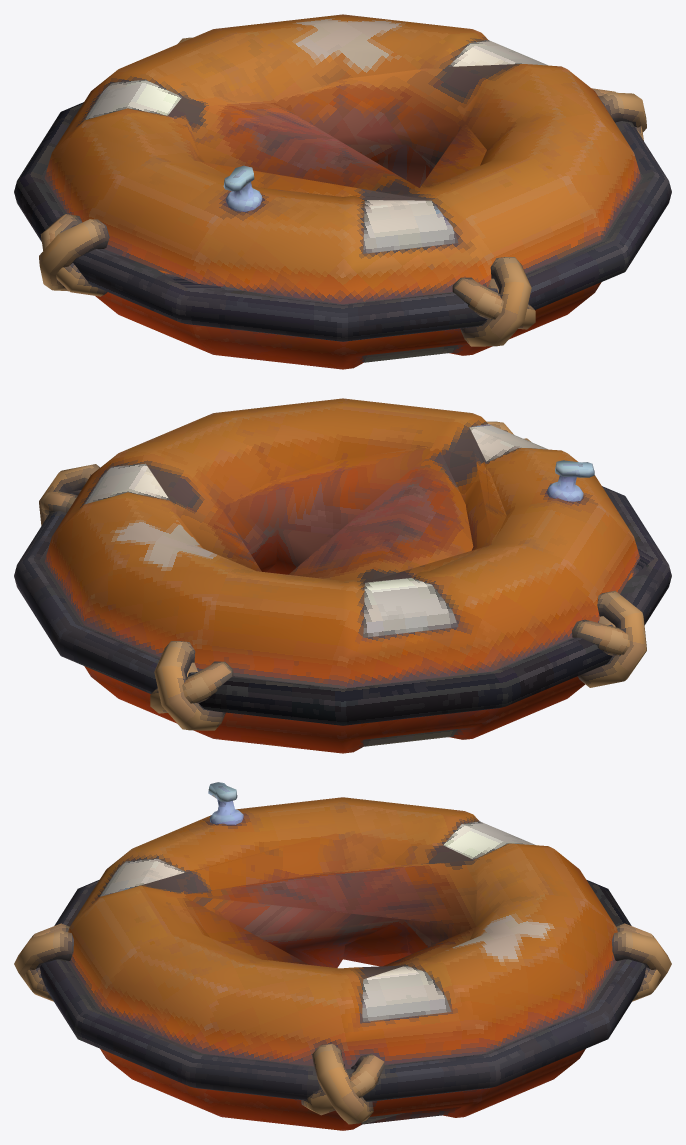
Rendered from item_ring_buoy.glb.
3 views of the same model, one above another, from view 1: azimuth 30°, elevation 25°; view 2: azimuth 150°, elevation 25°; view 3: azimuth 270°, elevation 25° (orthographic). The views are drawn at different scales.
Parts seen in each view (by area): view 1: Tube_low; view 2: Tube_low; view 3: Tube_low.
Part boxes in pixels (x1=…): Tube_low: x1=14, y1=14, x2=671, y2=369; Tube_low: x1=14, y1=398, x2=671, y2=753; Tube_low: x1=14, y1=782, x2=671, y2=1130.
Bounding box in the file's own units: 0.7198 × 0.2097 × 0.7198.
Materials: 1 (1 with a texture image).
